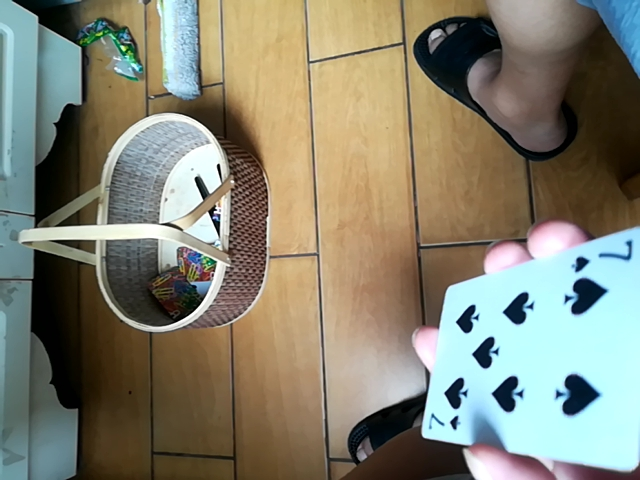ht 7: (421, 220, 638, 473)
